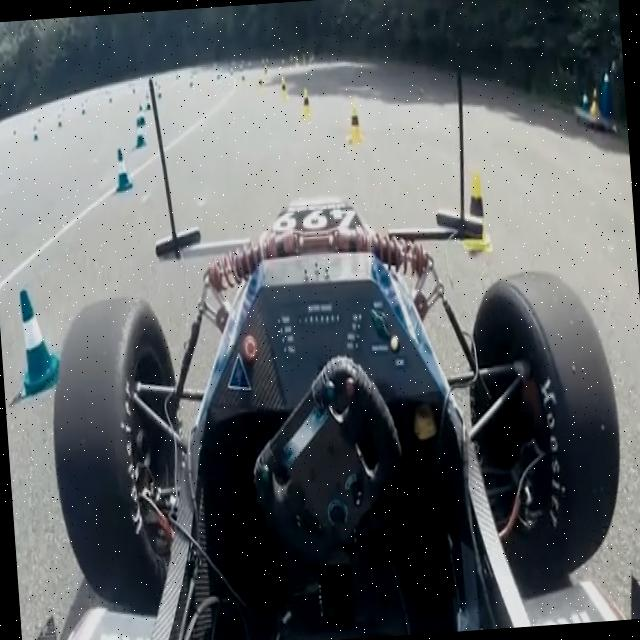blue_cone: (9, 279, 66, 392), (110, 146, 134, 194), (140, 89, 160, 128), (128, 116, 148, 154)
yellow_cone: (462, 172, 489, 255), (340, 102, 372, 146), (301, 86, 314, 113), (280, 74, 290, 102), (254, 68, 264, 93), (238, 68, 251, 84)
